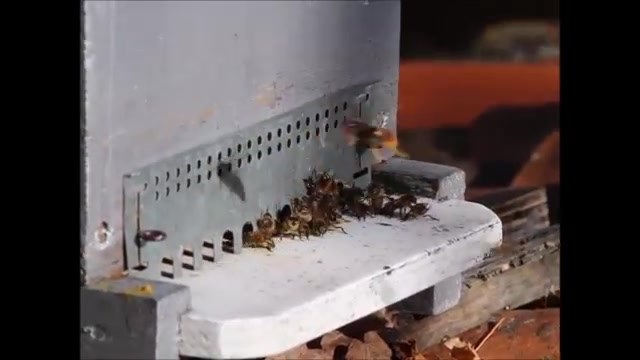bee: (346, 190, 430, 218), (310, 171, 330, 201), (288, 199, 319, 217), (259, 212, 277, 238), (321, 210, 343, 231), (287, 218, 308, 238)
hornet: (351, 120, 401, 152)
